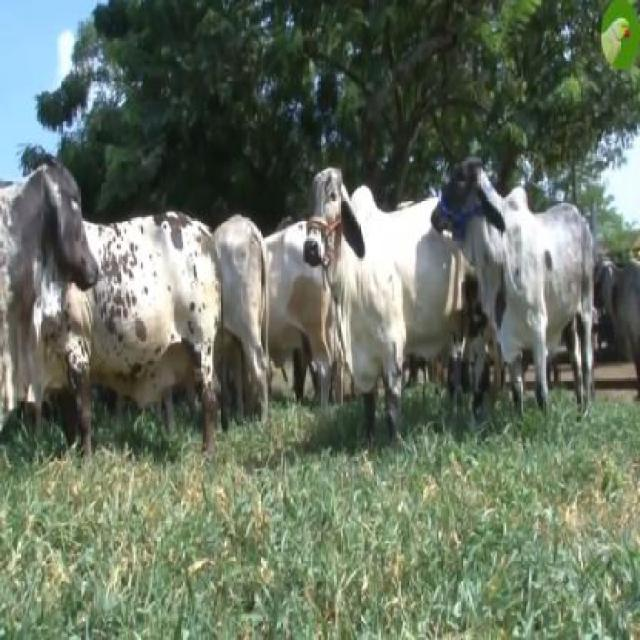Cow: (432, 162, 596, 423), (304, 166, 434, 425), (0, 158, 102, 332)
